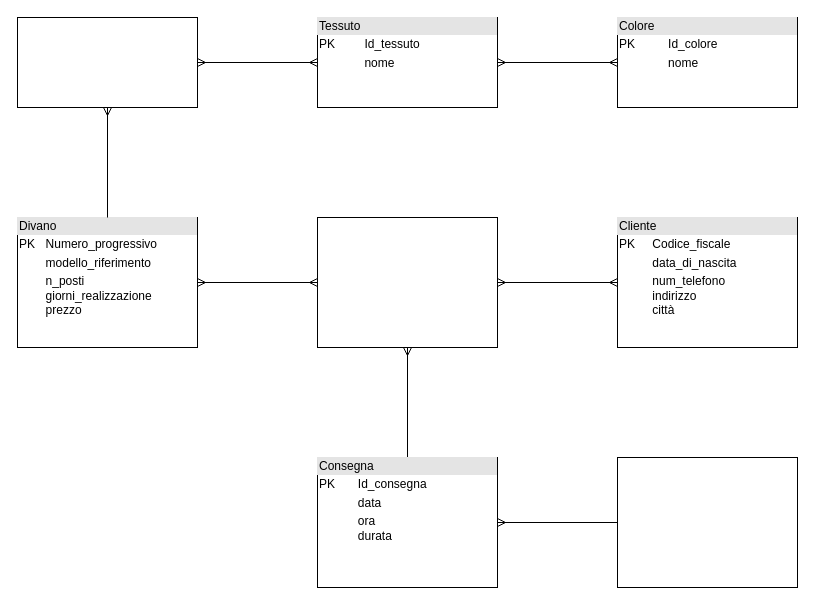
Image size: 815x605. Some labels were removed from this diagram. The centre of each missing label's shape, as x and y in pixels:
"Corriere PK Id_corriere nome num_telefono città" goes at [707,522].
"Modello PK Id_modello nome descrizione" goes at [107,62].
"Ordine PK Id_ordine data ora processato" goes at [407,282].
